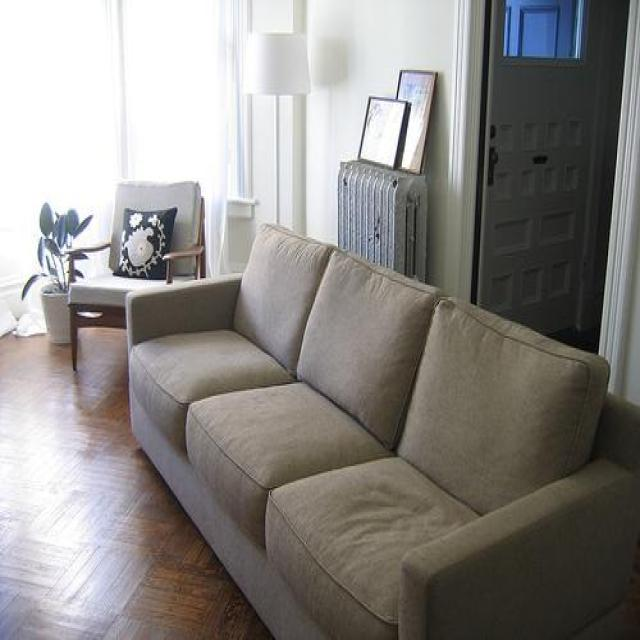sofa: (123, 218, 640, 640)
